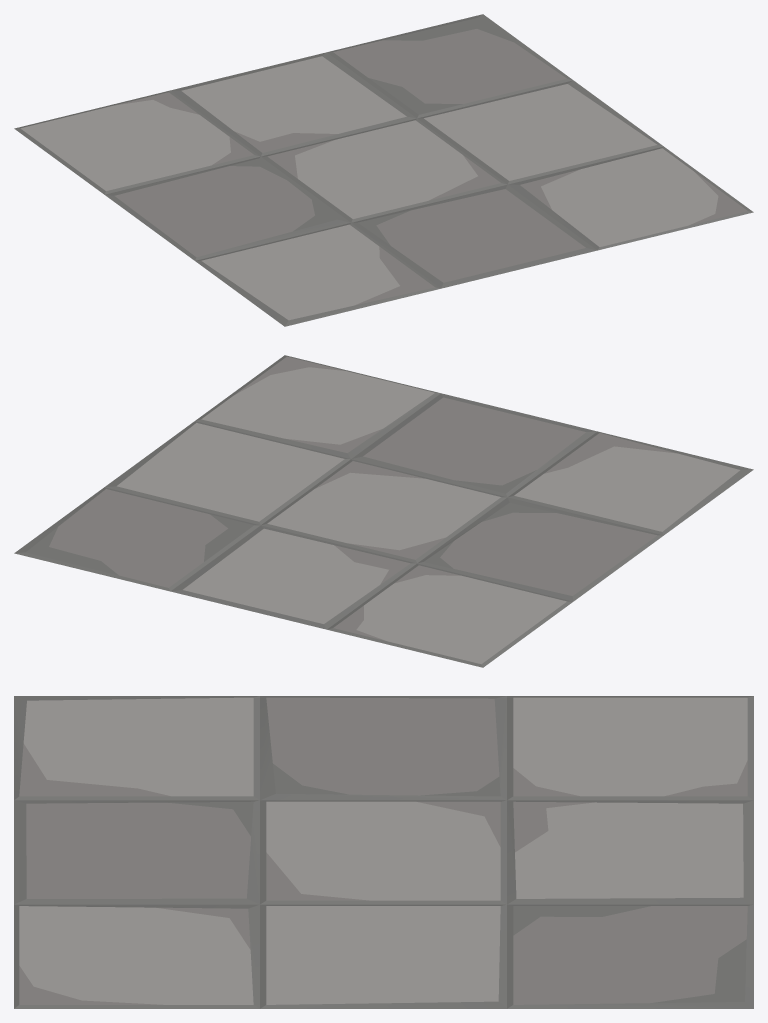
The model's file is SM_Env_Ground_Pavement_02.fbx.
3 views of the same model, one above another, from view 1: azimuth 30°, elevation 25°; view 2: azimuth 150°, elevation 25°; view 3: azimuth 270°, elevation 25° (orthographic). The views are drawn at different scales.
Visible parts, largest first — view 1: SM_Env_Ground_Pavement_02; view 2: SM_Env_Ground_Pavement_02; view 3: SM_Env_Ground_Pavement_02.
Part boxes in pixels (left/top/right/bottom): SM_Env_Ground_Pavement_02: left=14, top=14, right=753, bottom=326; SM_Env_Ground_Pavement_02: left=14, top=355, right=753, bottom=667; SM_Env_Ground_Pavement_02: left=14, top=696, right=753, bottom=1008.
Bounding box in the file's own units: 1000 × 1.83 × 1000.
